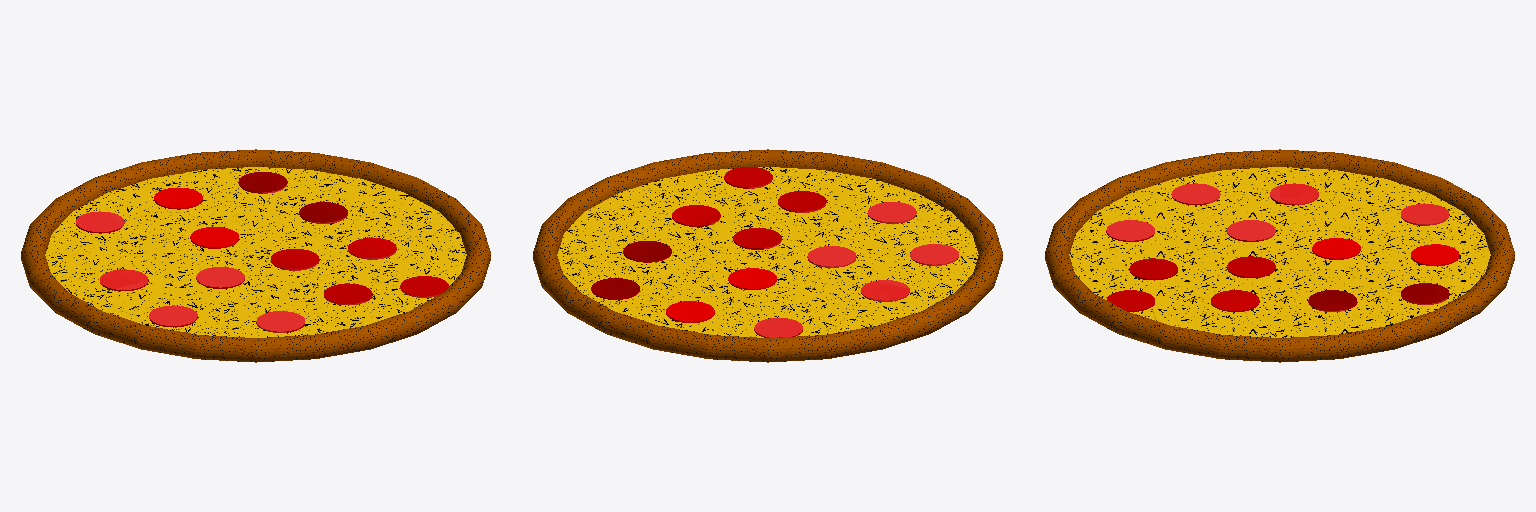
3 views of the same model, side by side, from view 1: azimuth 30°, elevation 25°; view 2: azimuth 150°, elevation 25°; view 3: azimuth 270°, elevation 25° (orthographic).
Size of the model in its own units: 0.4874 by 0.0254 by 0.4874.
Materials: 4 (3 with a texture image).